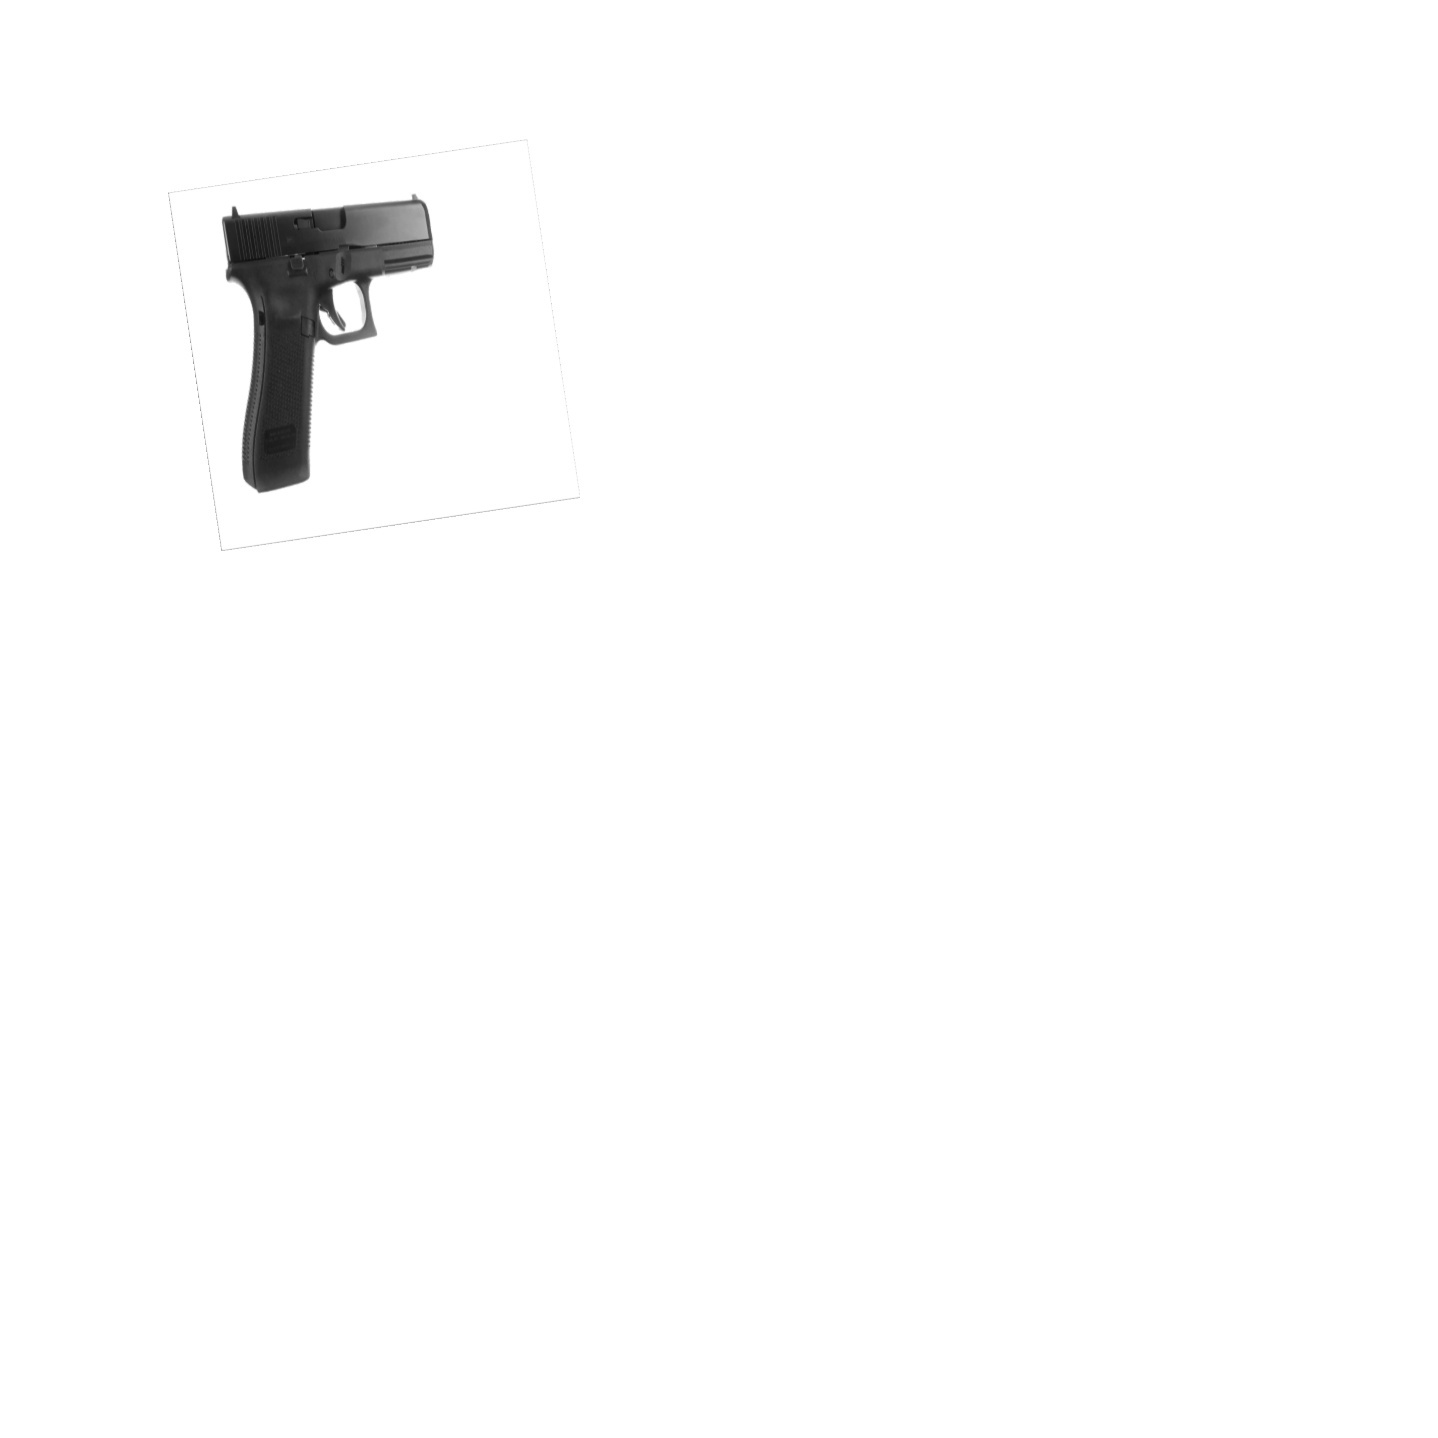gun: (219, 188, 445, 493)
